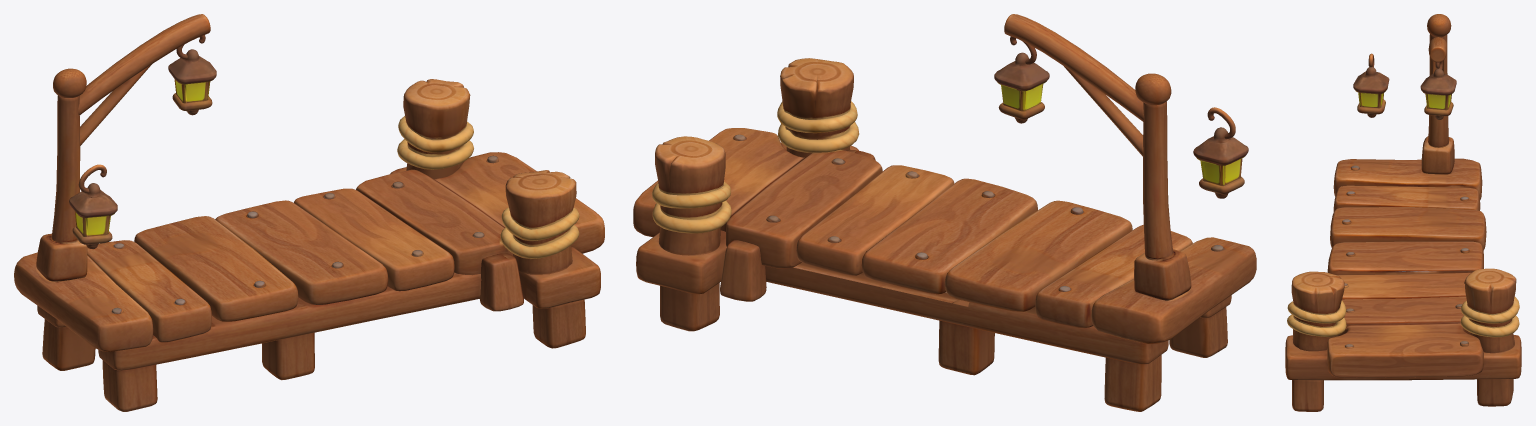
File: C13_dock.fbx
The picture shows the model from 3 angles, left to right: view 1: azimuth 30°, elevation 25°; view 2: azimuth 150°, elevation 25°; view 3: azimuth 270°, elevation 25°; orthographic projection. The views are drawn at different scales.
Parts seen in each view (by area): view 1: tripo_node_eb0fee70; view 2: tripo_node_eb0fee70; view 3: tripo_node_eb0fee70.
Part boxes in pixels (box(x1,y1,x2,y2)): tripo_node_eb0fee70: box(14, 14, 604, 411); tripo_node_eb0fee70: box(633, 14, 1256, 411); tripo_node_eb0fee70: box(1285, 14, 1521, 411).
Size of the model in its own units: 0.9995 by 0.6245 by 0.521.
